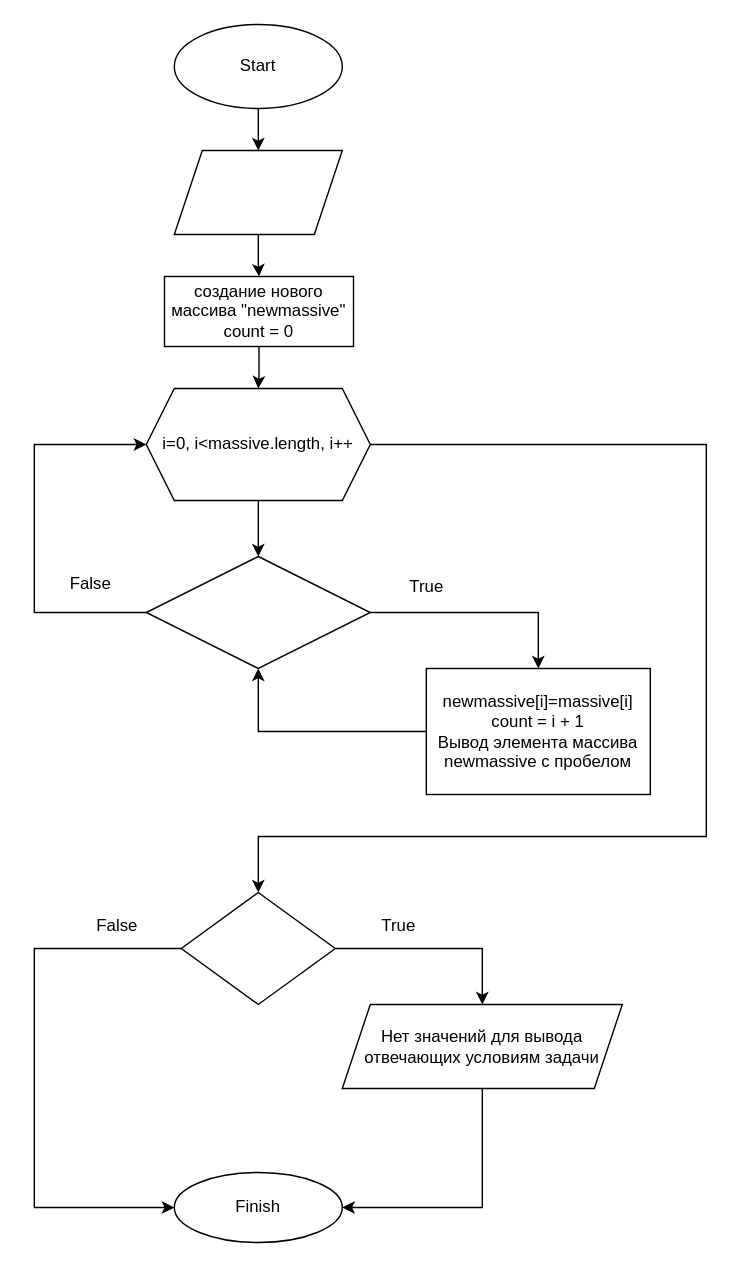
This 742x1267 diagram has some shape labels left out. Each missing label, with the centre of its shape:
count = 0: (x=257, y=947)
massive[i].length<3: (x=257, y=611)
Ввод массива "massive": (x=257, y=191)
